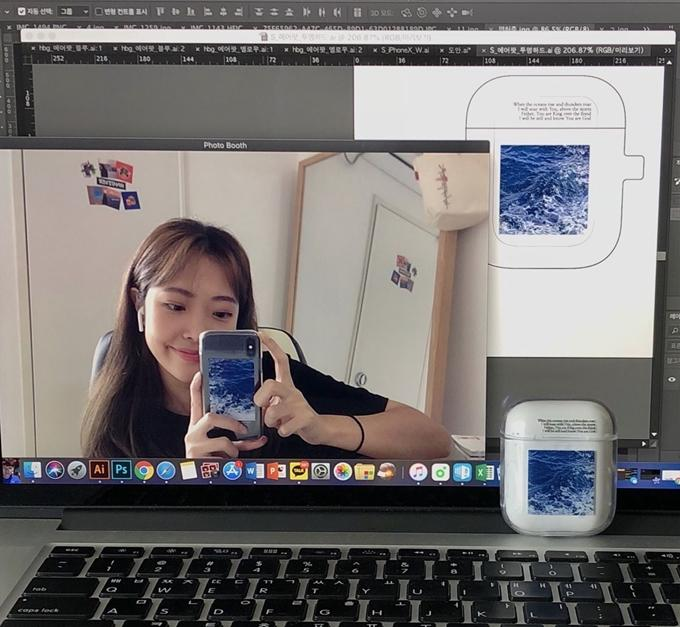earphone: (132, 299, 148, 334)
